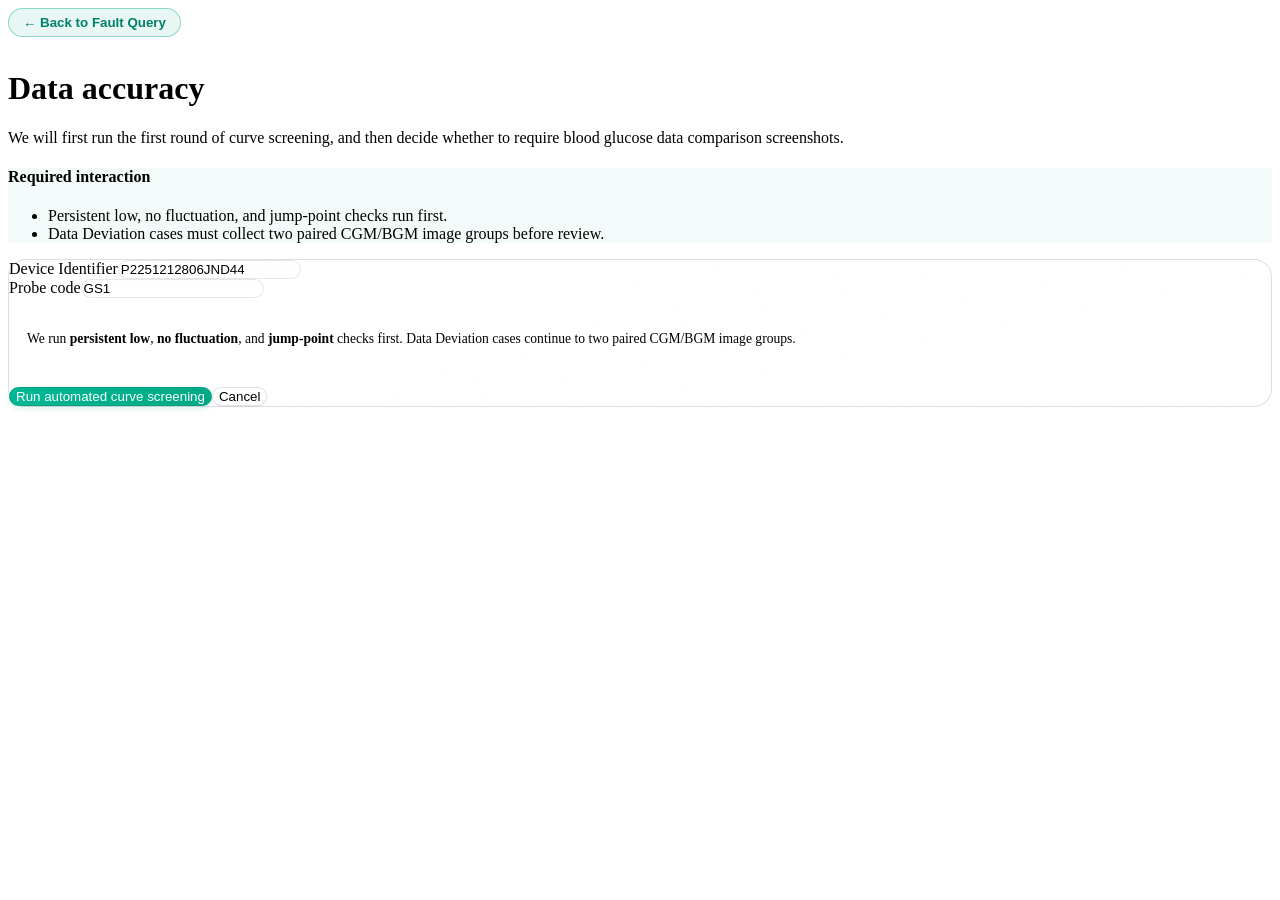
Test: DetectFlowView › uses the reference-style verdict layout after running detection
Click the button with test id "run-detect".
click(110, 396)  # box [9, 387, 212, 406]
Wait 4200 ms
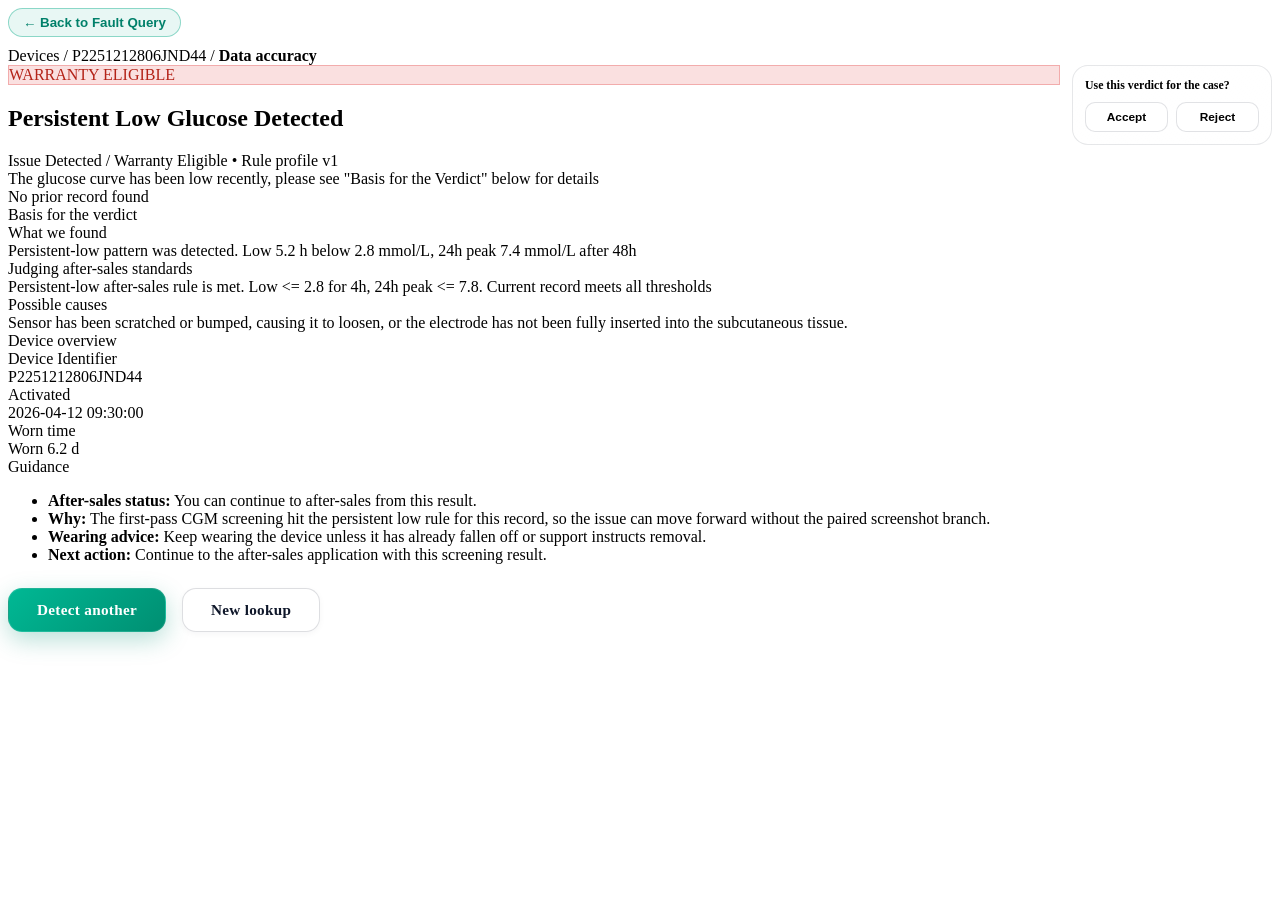
Expected: the element that starts with "← Back to Fault Query" is shown
Expected: the element showing "Devices / P2251212806JND44 / Data accuracy" is shown, [8, 47, 317, 64]
Expected: the element that starts with "WARRANTY ELIGIBLE" is shown, [8, 65, 1060, 206]
